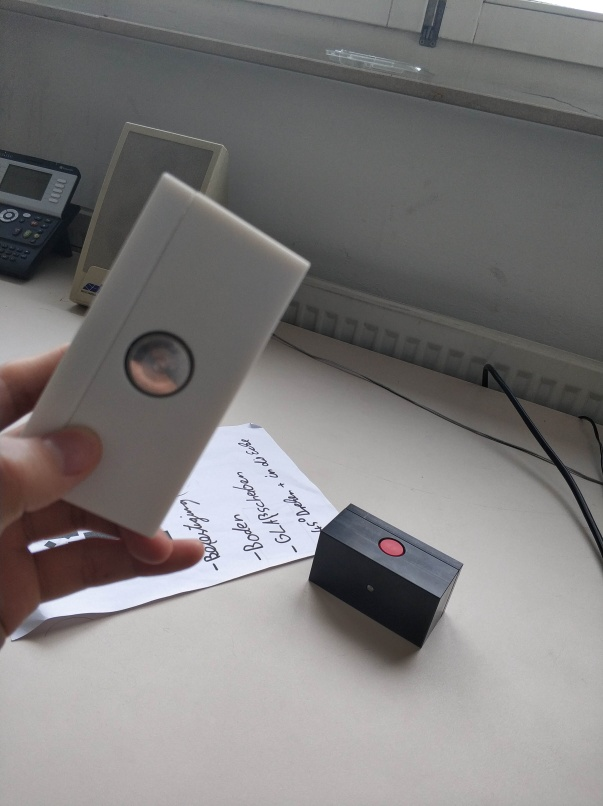black+black+red: (307, 501, 461, 652)
white+white+silver: (18, 171, 313, 543)
